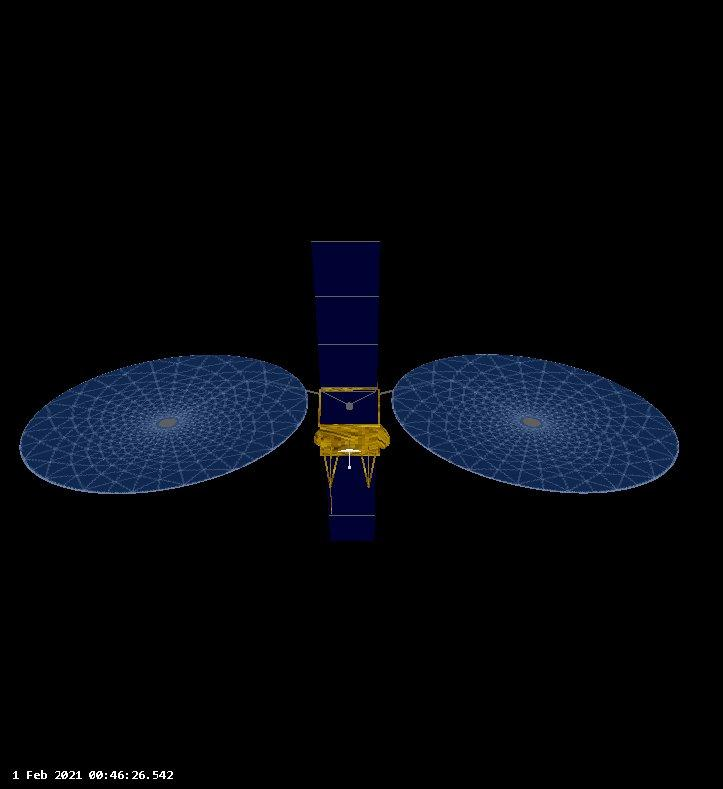antenna: (387, 345, 687, 497), (18, 347, 312, 497), (335, 443, 365, 473)
body: (312, 378, 393, 461)
solar: (303, 233, 390, 548)
